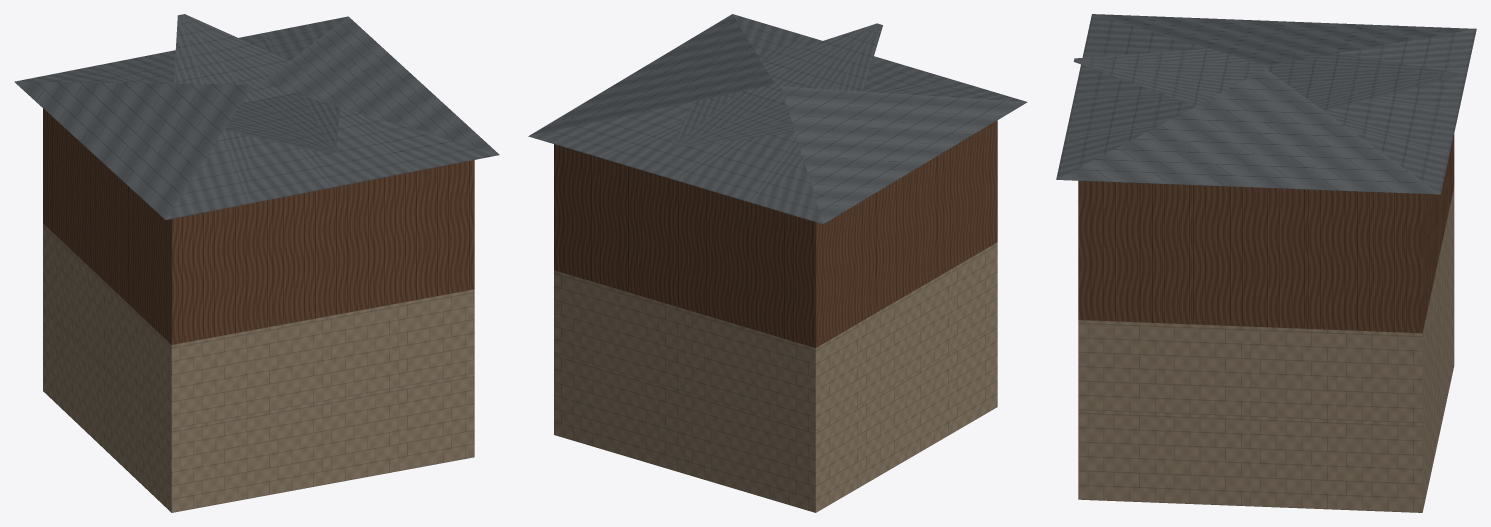
File: bld_c33_-37_445.gltf
3 renders of one model, left to right at view 1: azimuth 30°, elevation 25°; view 2: azimuth 150°, elevation 25°; view 3: azimuth 270°, elevation 25°, orthographic. The views are drawn at different scales.
Parts seen in each view (by area): view 1: bld_c33_-37_445; view 2: bld_c33_-37_445; view 3: bld_c33_-37_445.
Boxes of the visible parts, x1,y1,x2,y2 form: bld_c33_-37_445: (14,14,499,512); bld_c33_-37_445: (528,14,1027,512); bld_c33_-37_445: (1056,14,1476,512).
Bounding box in the file's own units: 10.53 × 9.9 × 10.36.
Materials: 3 (3 with a texture image).
